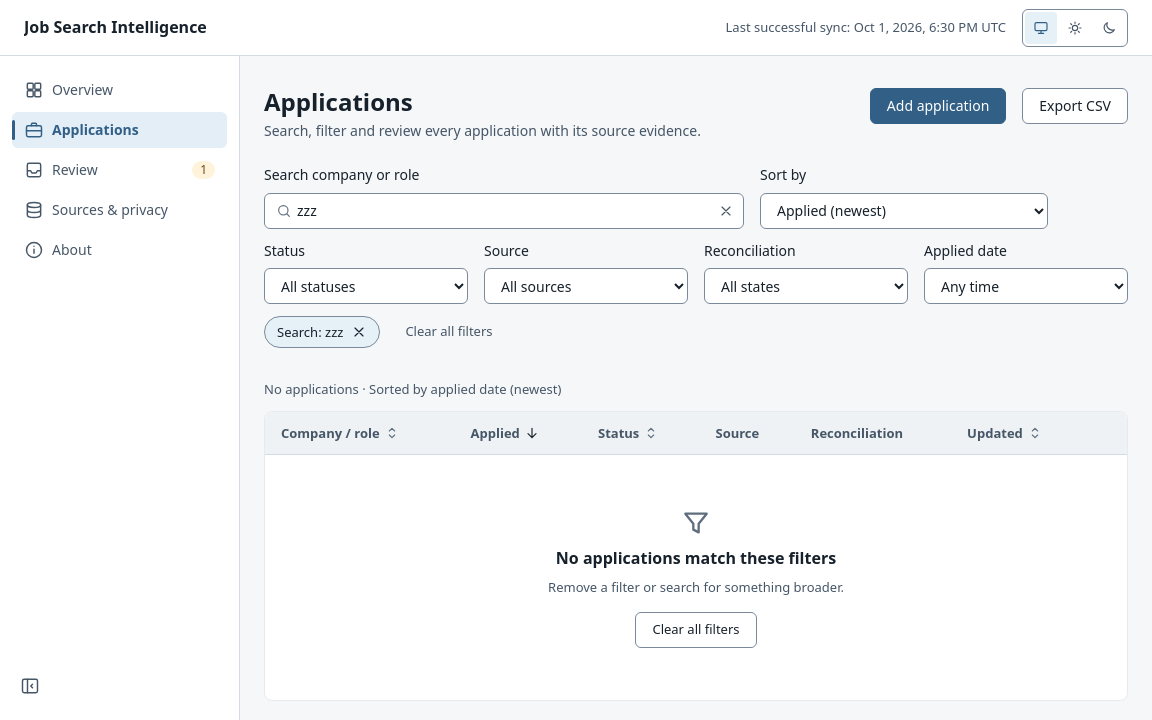
Scenario: empty and failed lists › distinguishes a filtered-empty list from an empty dataset
The width and height of the screenshot is (1152, 720).
Check: the text "No applications match these filters" is shown, box [556, 547, 836, 570]
Click the button "Clear all filters" below "Search company or role" at (449, 332), box [392, 316, 506, 348]
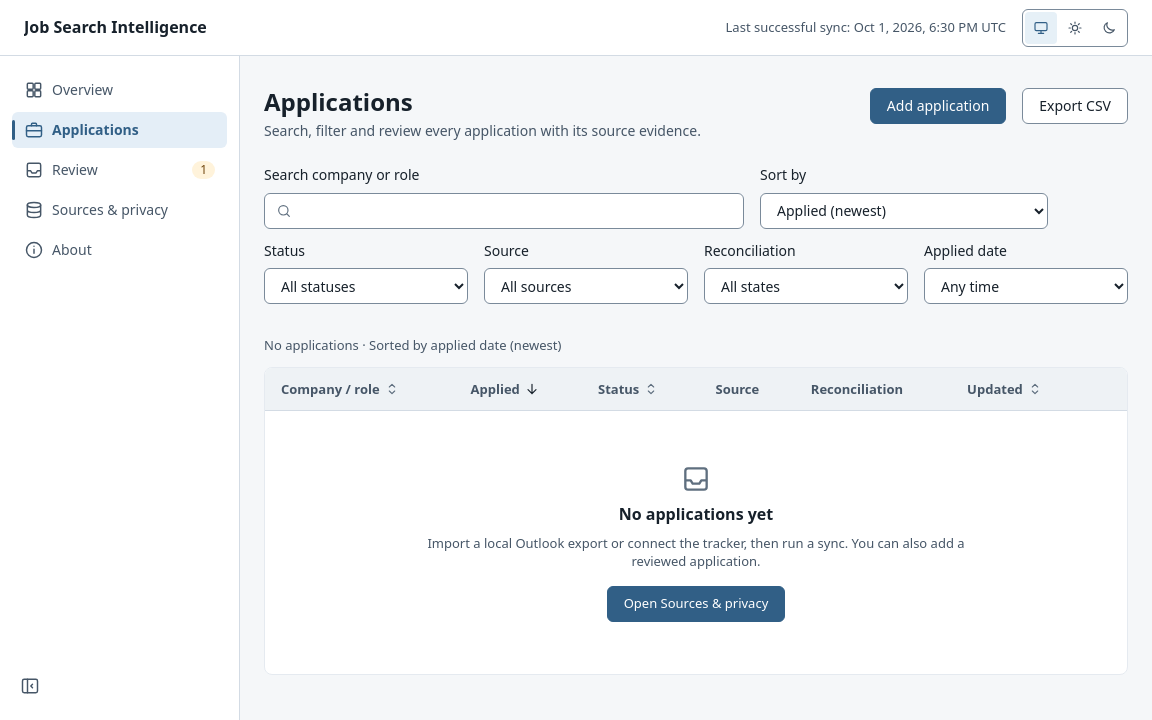
Check: the text "No applications yet" is shown, box [619, 503, 773, 526]
